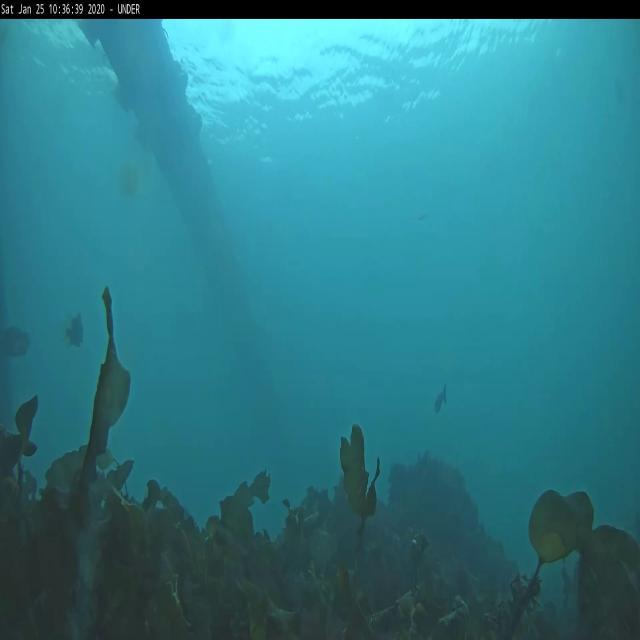fish: (3, 324, 32, 354), (432, 386, 450, 416)
